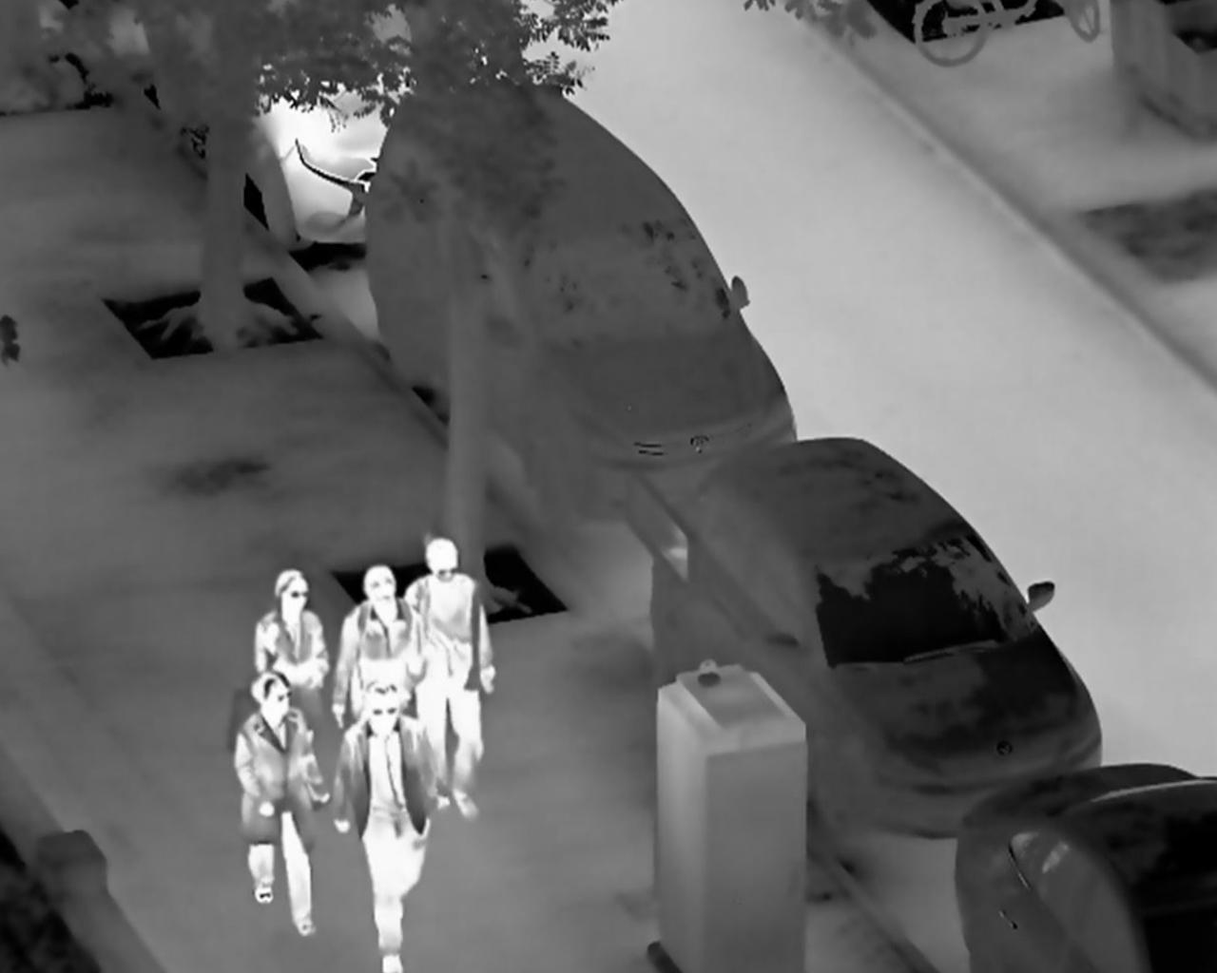person: (330, 680, 439, 973), (400, 531, 499, 822), (228, 669, 332, 940), (328, 563, 425, 731), (252, 566, 330, 732)
